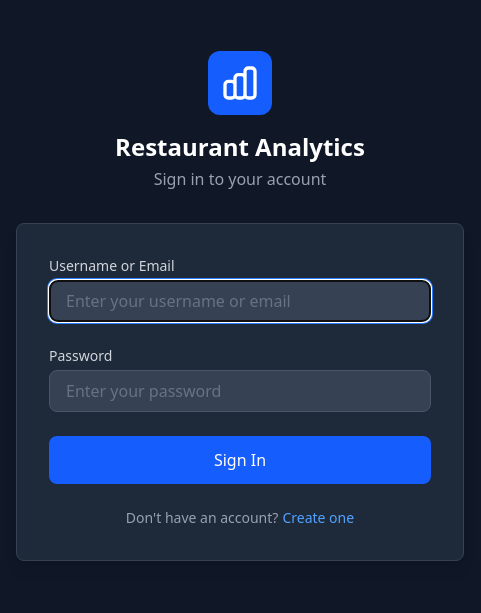
Test: Login Page › shows error for empty username
Click the button "Sign In": (240, 460) top-left (49, 436), bottom-right (431, 484)
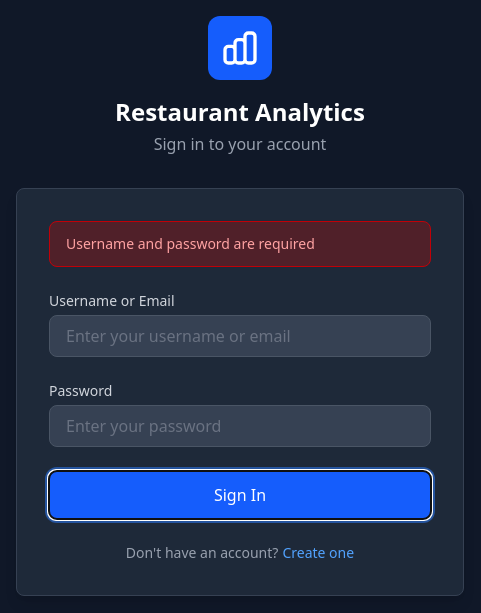
Expected: the text "Username and password are required" is shown, top-left (49, 221), bottom-right (431, 267)
